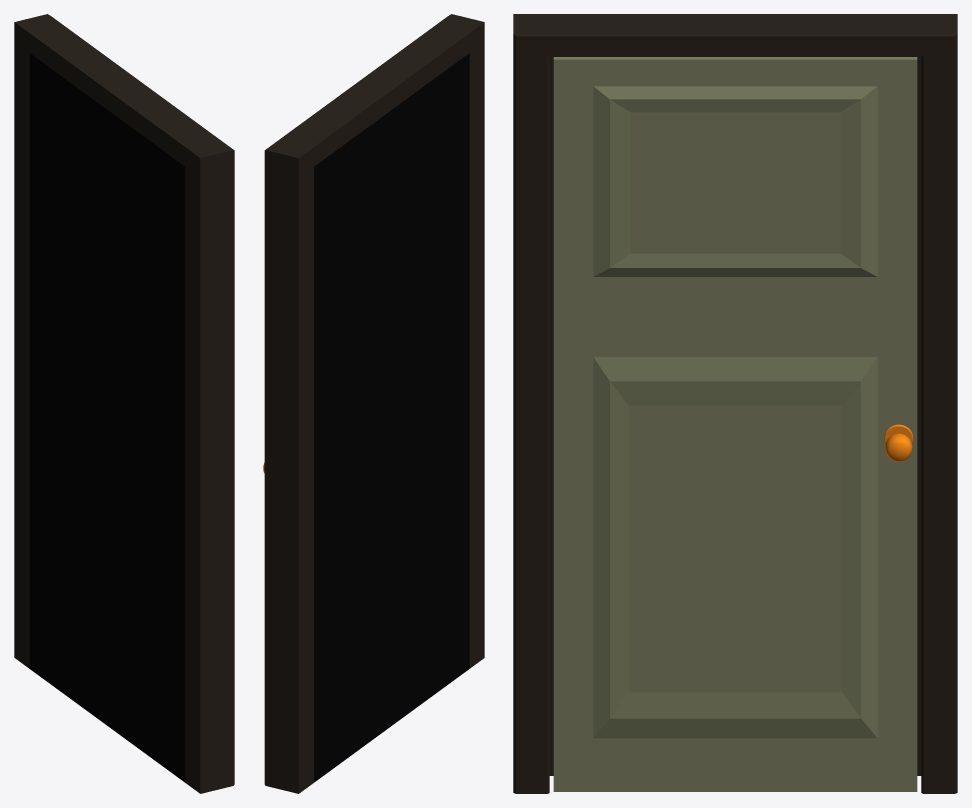
File: ProperDoor.FBX
3 views of the same model, side by side, from view 1: azimuth 30°, elevation 25°; view 2: azimuth 150°, elevation 25°; view 3: azimuth 270°, elevation 25° (orthographic). The views are drawn at different scales.
Visible parts, largest first — view 1: Door; view 2: Door; view 3: Door.
Boxes of the visible parts, x1,y1,x2,y2 form: Door: (14,14,234,793); Door: (263,14,484,793); Door: (513,14,957,793).
Bounding box in the file's own units: 21.55 × 225 × 120.
